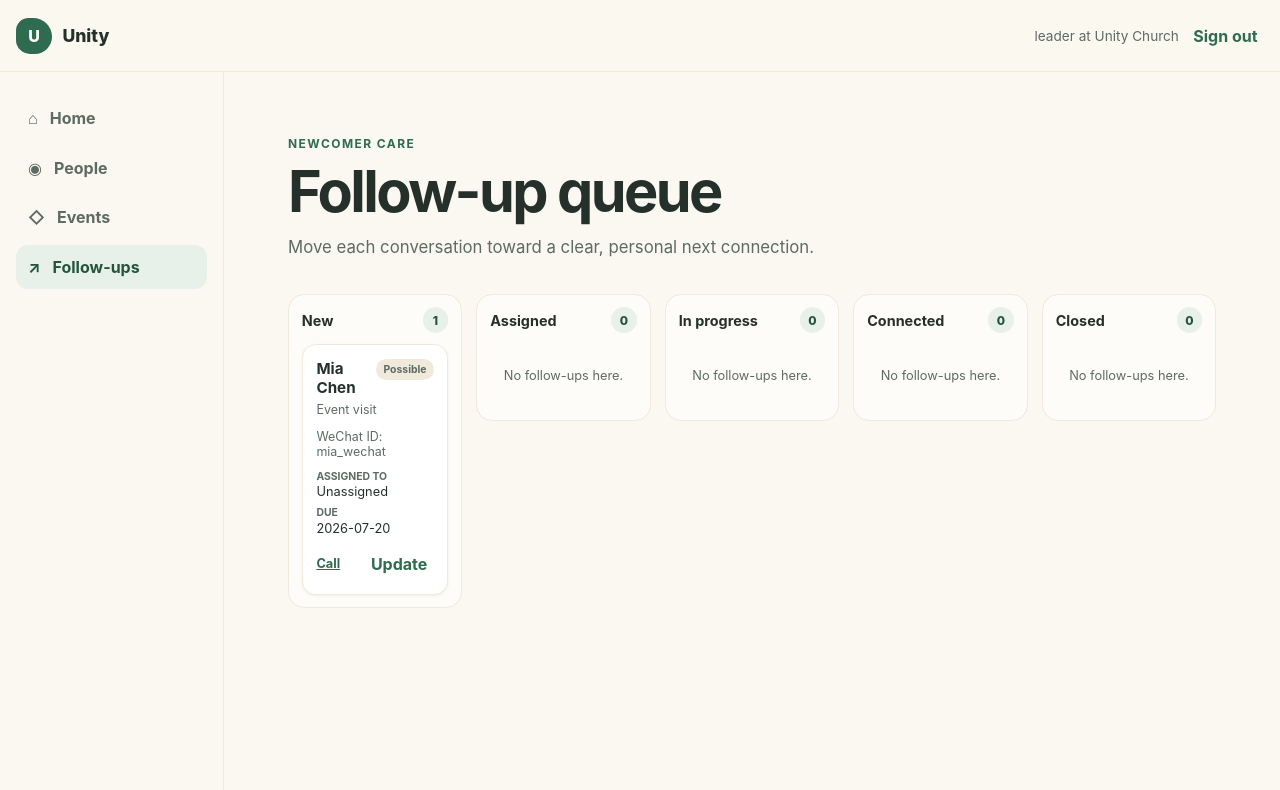
Scenario: Follow-up queue › shows the pipeline and moves a follow-up after an update
Expected: the heading "Follow-up queue" is shown, [288,156,721,226]
Expected: the heading "Mia Chen" is shown, [316,359,356,397]
Click the button "Update".
click(399, 564)  # box [364,547,434,580]
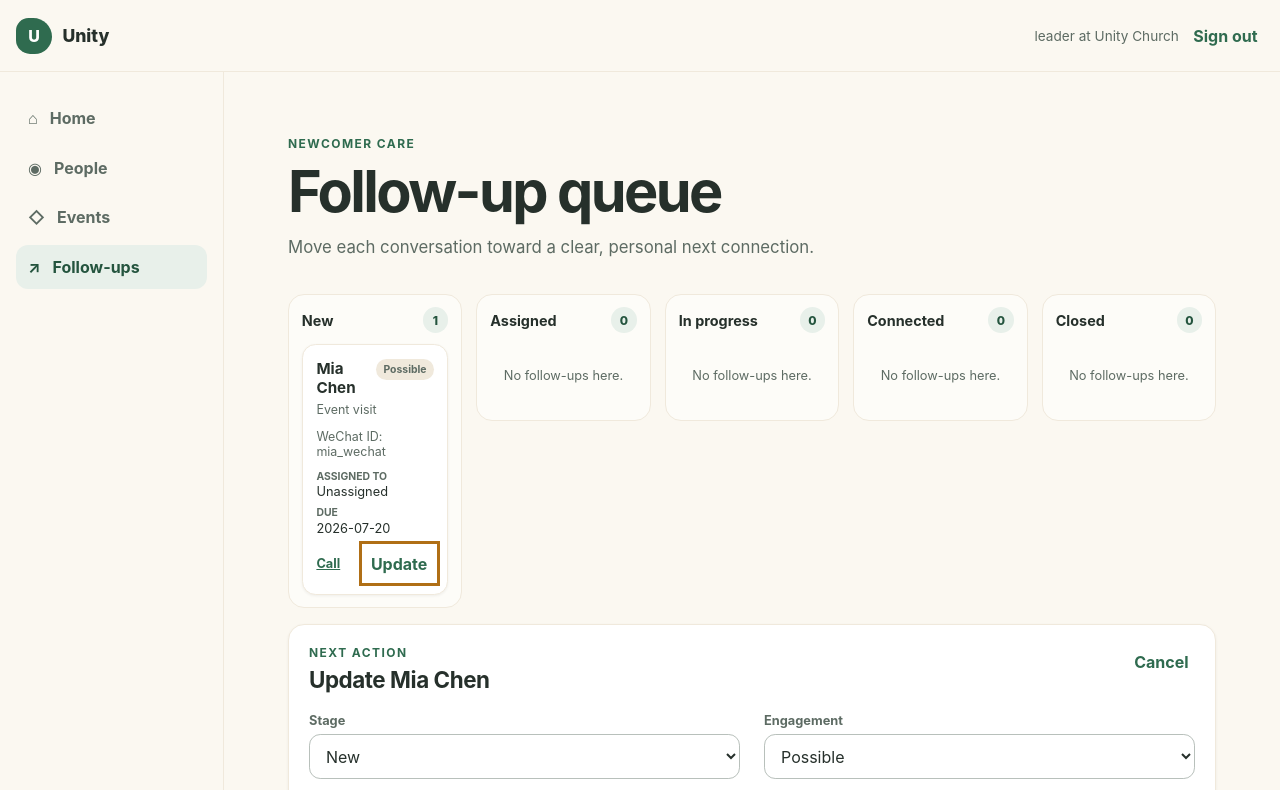
Select "Connected" in the dropdown labelled "Stage" at (524, 757), box [309,734,740,779]
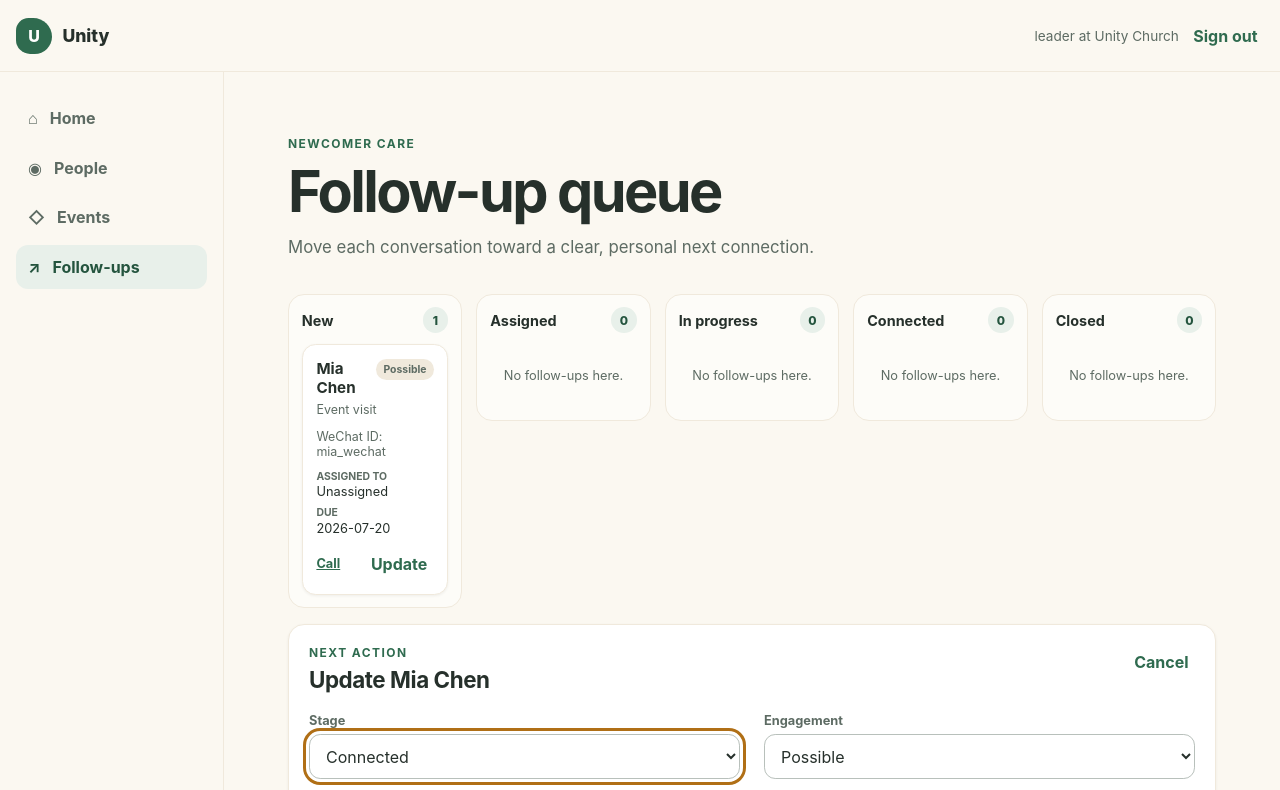
Select "Likely" in the dropdown labelled "Engagement" at (980, 757), box [764,734,1195,779]
(page scrolled)
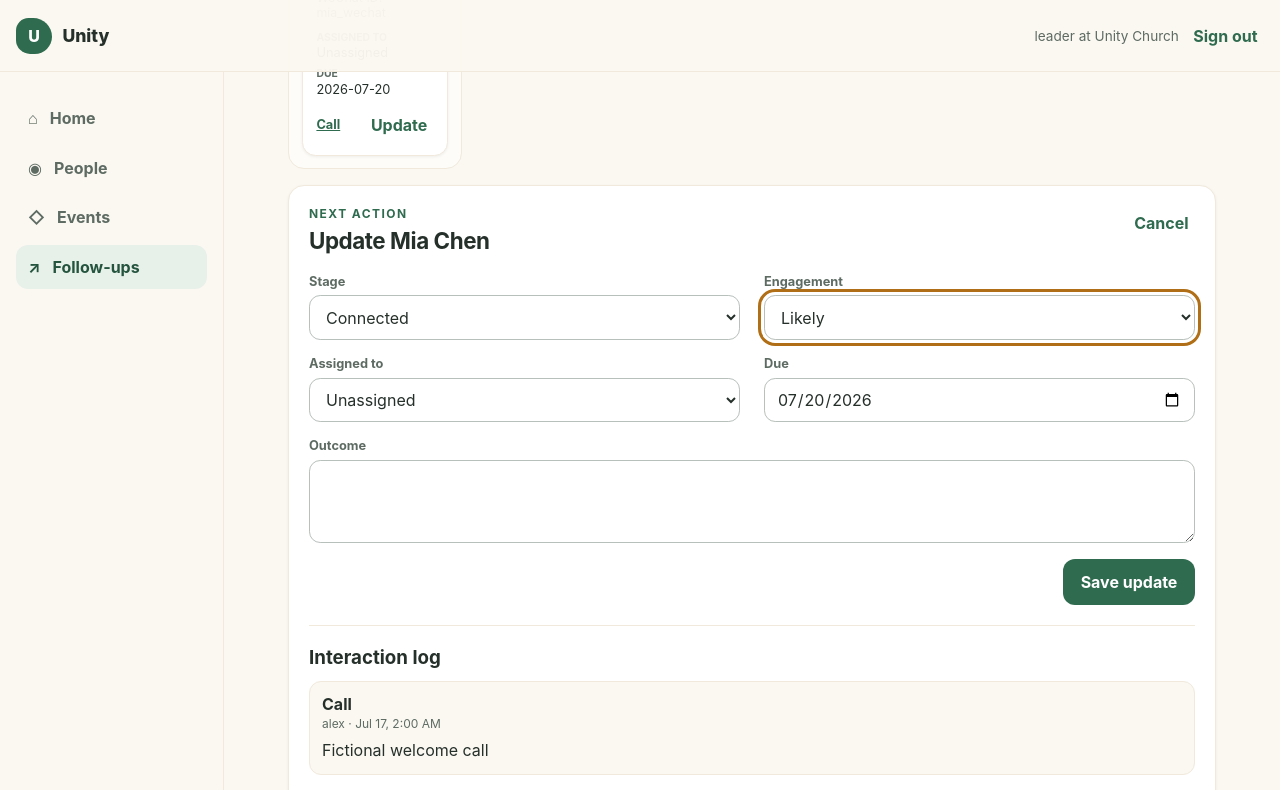
Select "Alex Chen" in the dropdown labelled "Assigned to" at (524, 400), box [309,378,740,422]
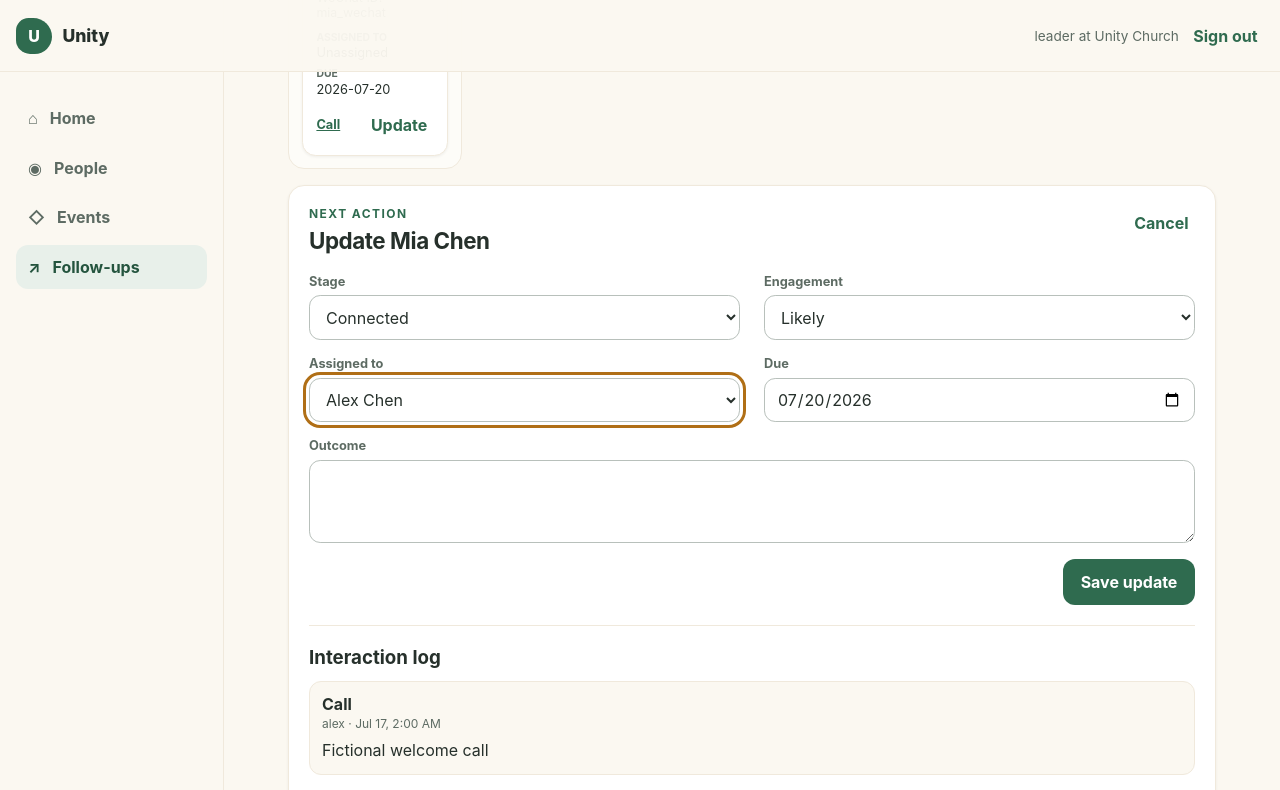
Click the button "Save update".
click(1129, 582)  # box [1063,559,1195,605]
(page scrolled)
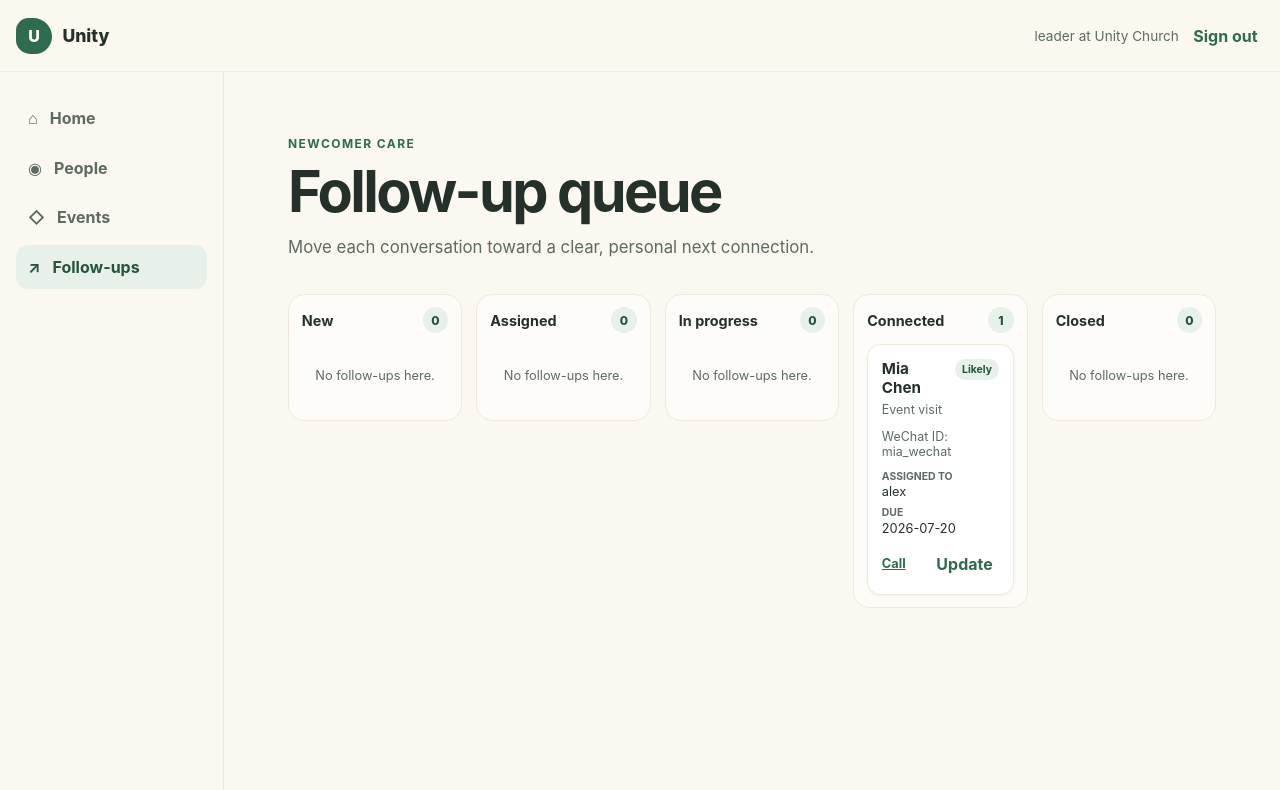
Expected: the text "Likely" is shown, [955,359,999,380]
